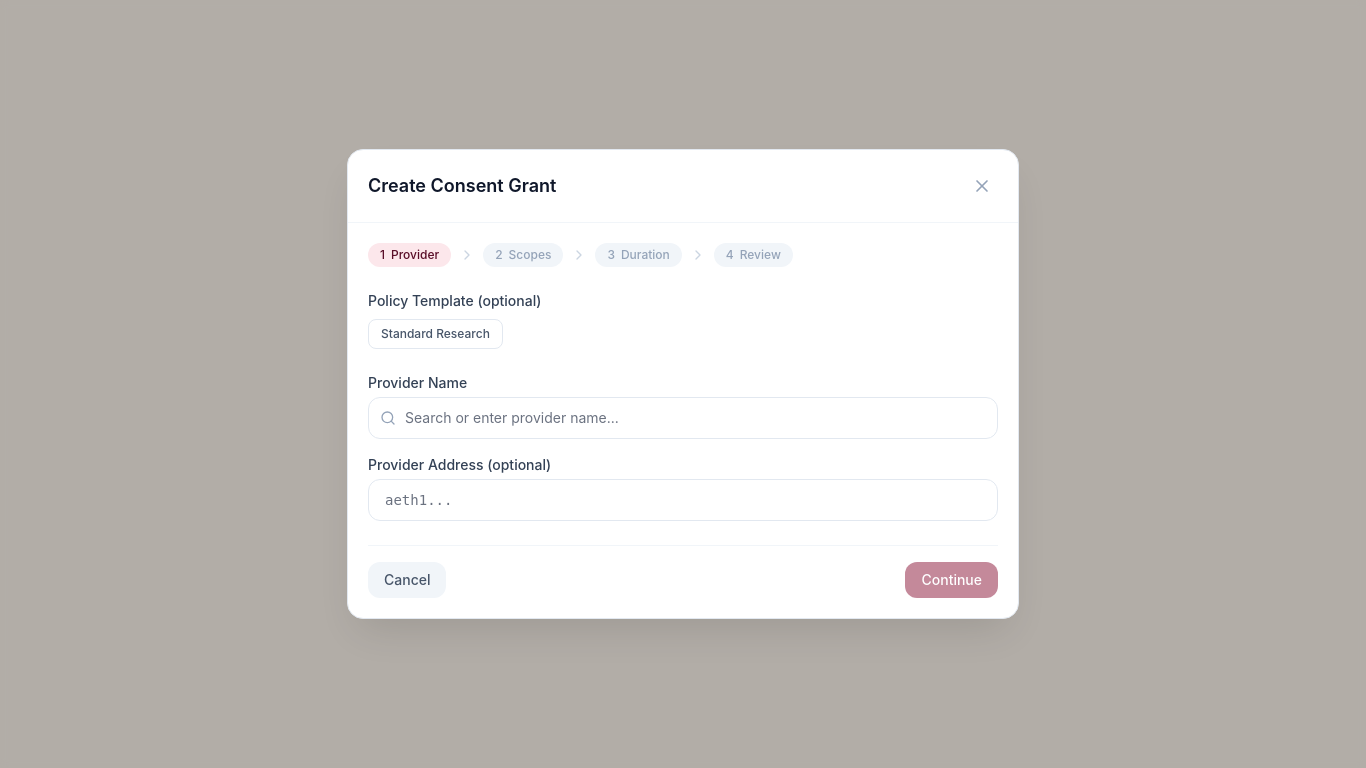
it: CreateConsentModal › shows loading state on Grant Consent button
The width and height of the screenshot is (1366, 768).
# Apply policy template to enable Continue on scopes step
Step 1. Click the button "Standard Research" → click(435, 334), box [368,319,503,349]
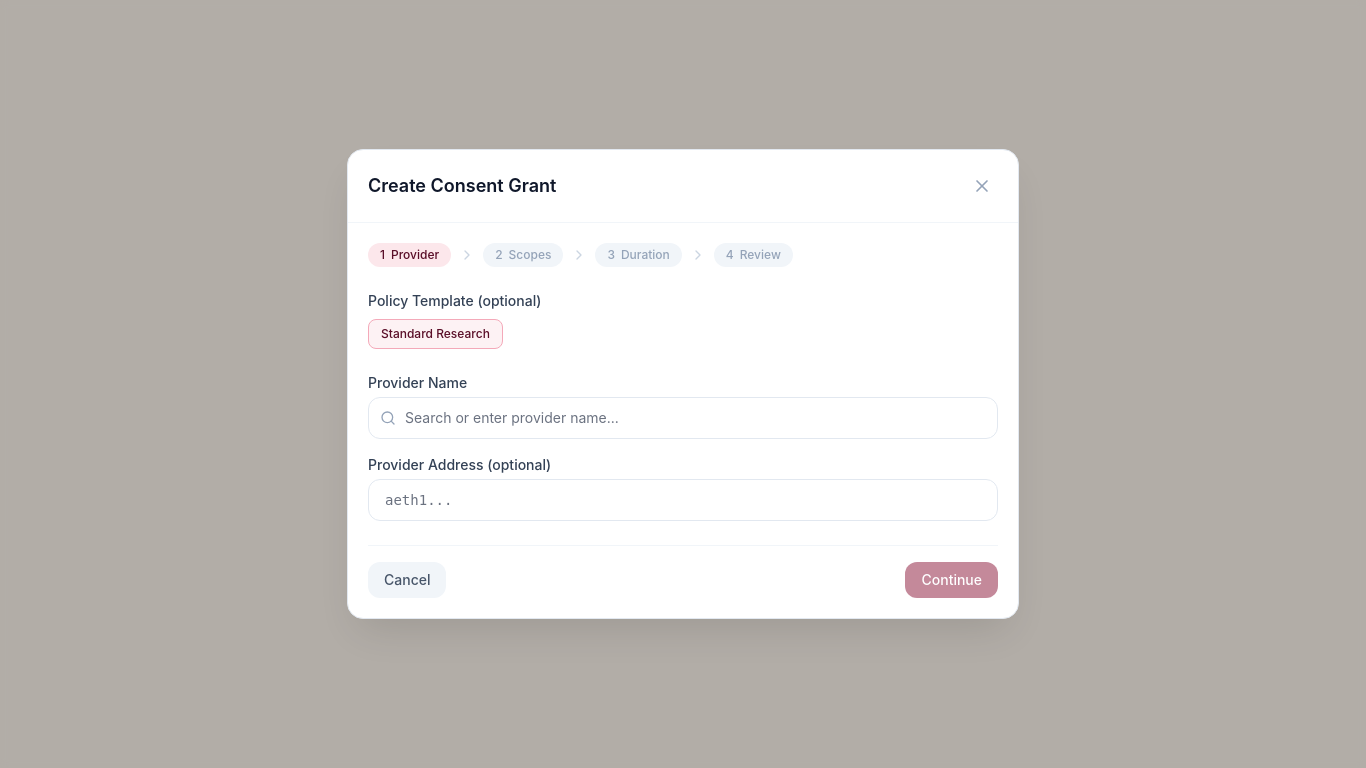
Step 2. Type "Test" into the field with placeholder "Search or enter provider name..." → (683, 418), box [368,397,998,439]
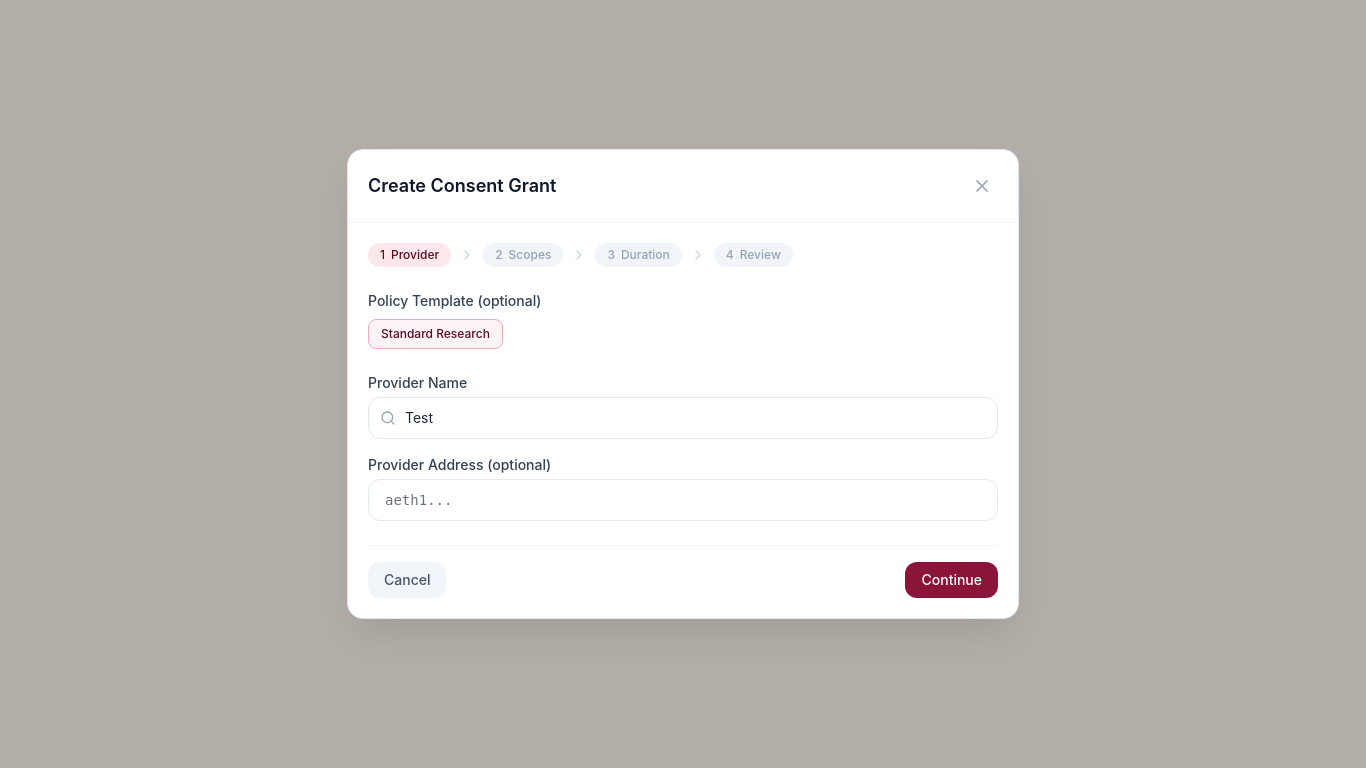
Step 3. Click the button "Continue" → click(952, 580), box [906,562,998,598]
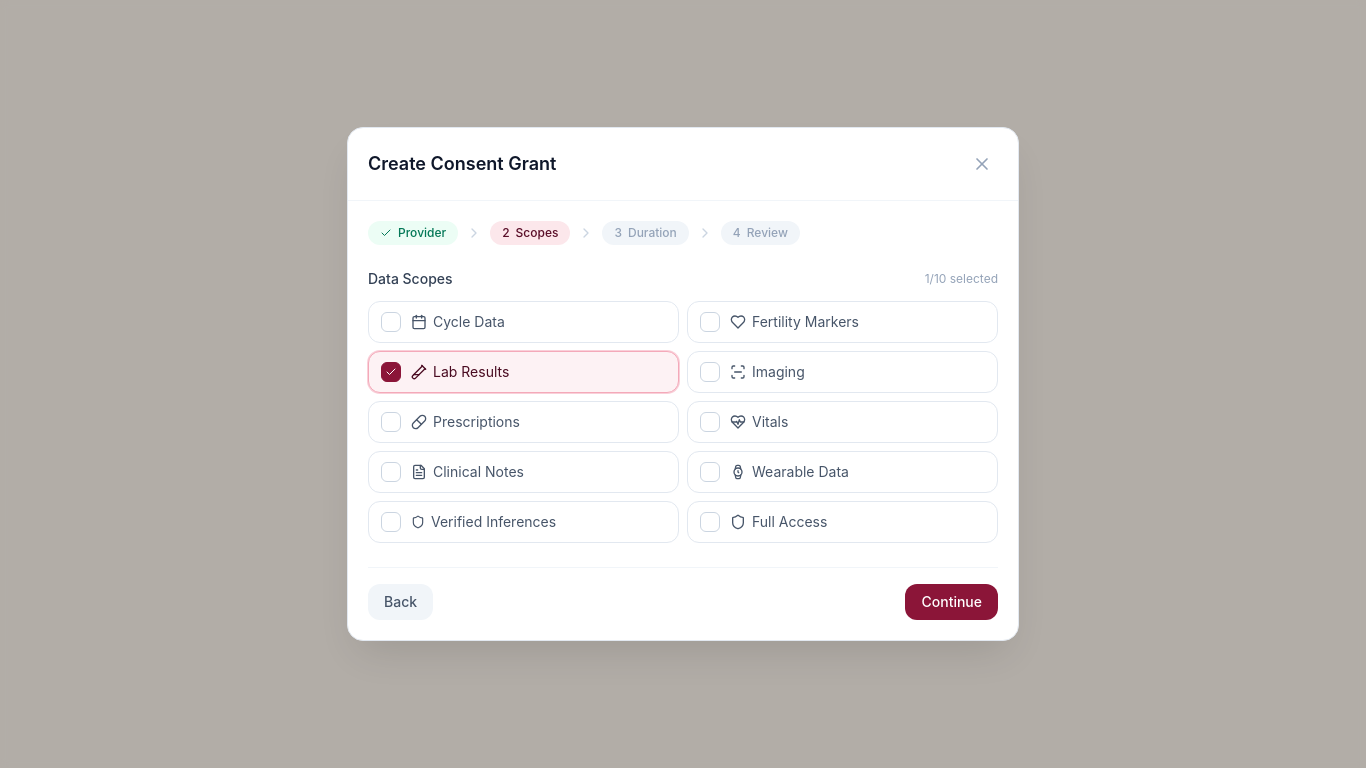
Step 4. Click the button "Continue" → click(952, 602), box [906,584,998,620]
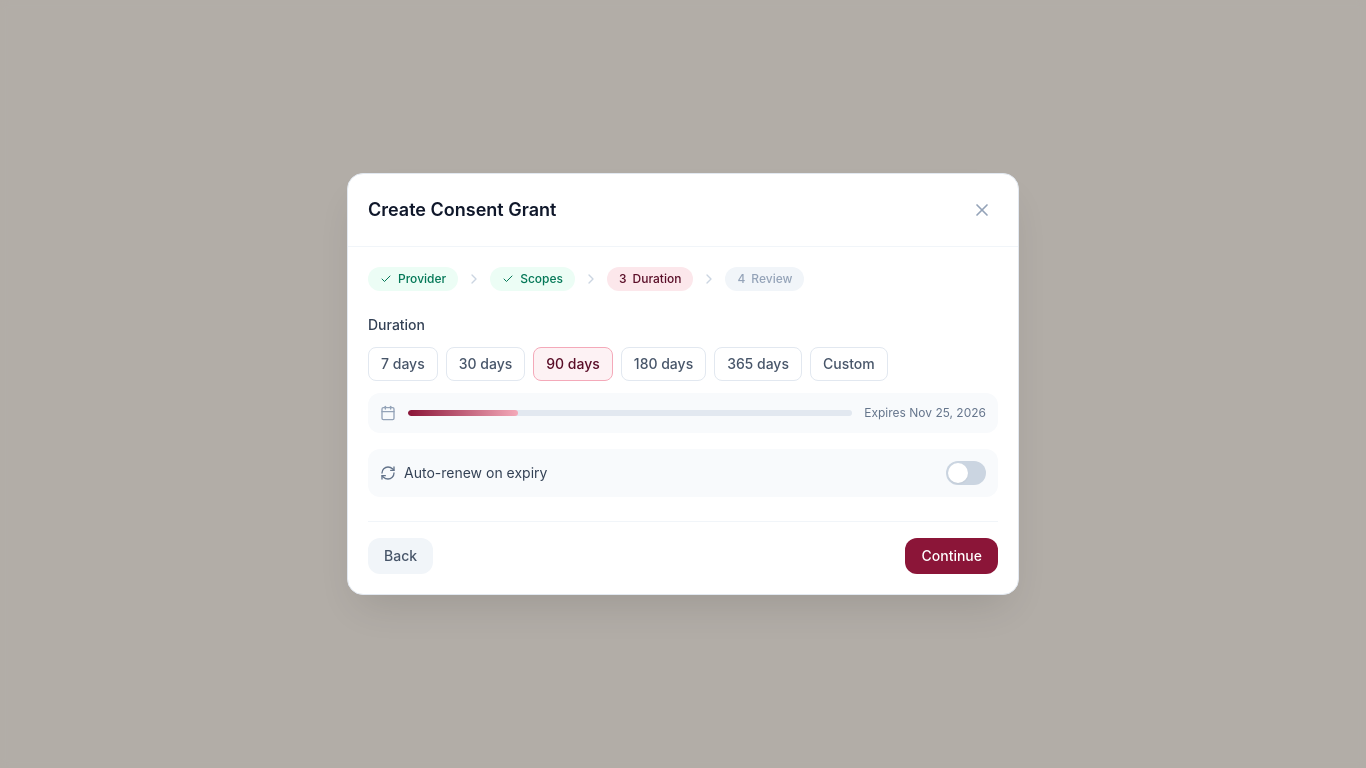
Step 5. Click the button "Continue" → click(952, 556), box [906,538,998,574]
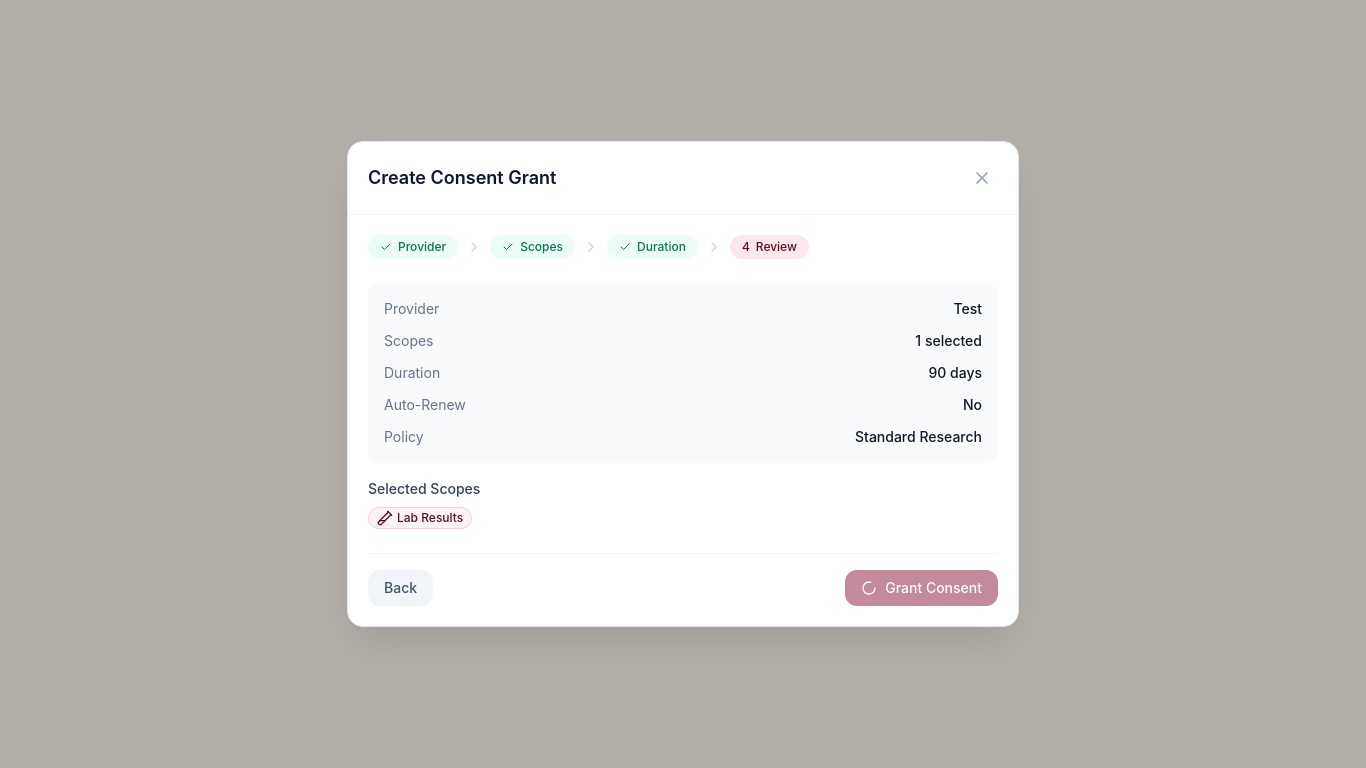
expect the button "Grant Consent" is shown: met, box [845,570,998,606]
